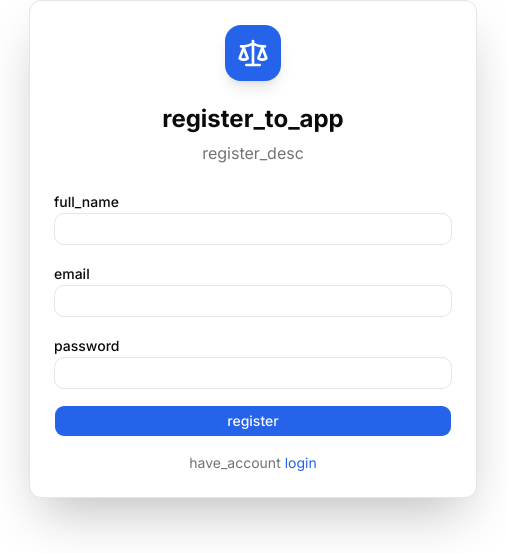
RegisterPage › shows email confirmation message without session
Expected: the heading "register_to_app" is shown, [162,104,344,133]
Step 1. Type "Test User" into the field labelled "full_name" → point(253, 229), box [54,213,452,245]
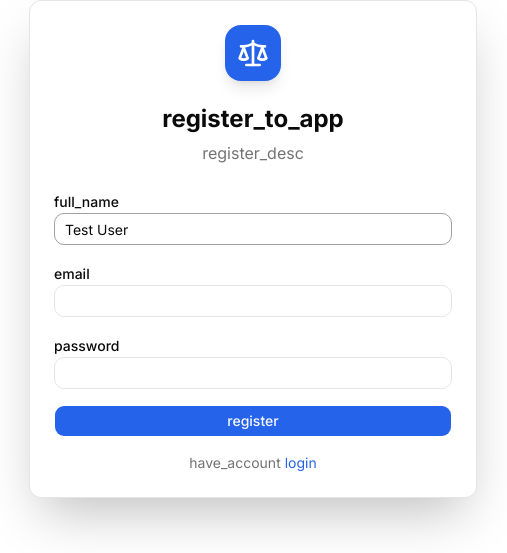
Step 2. Type "test@example.com" into the field labelled "email" → point(253, 301), box [54,285,452,317]
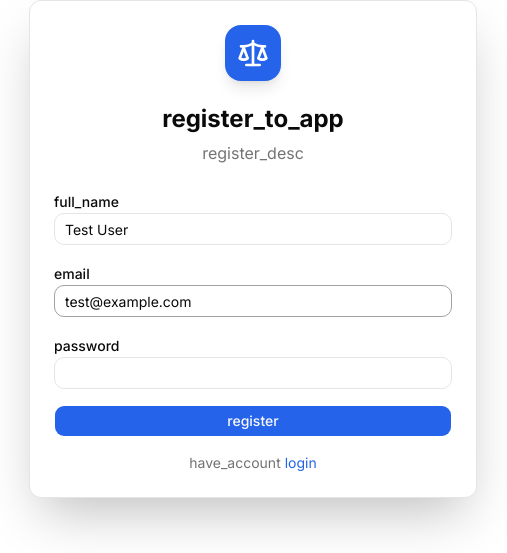
Step 3. Type "password123" into the password field labelled "password" → point(253, 373), box [54,357,452,389]
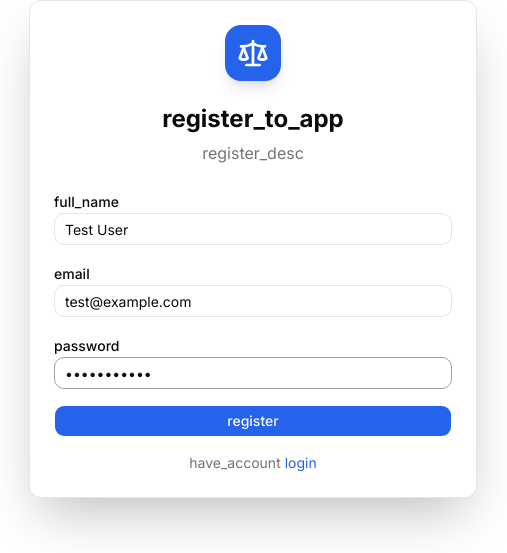
Step 4. Click the button "register" → point(253, 421), box [54,405,452,437]
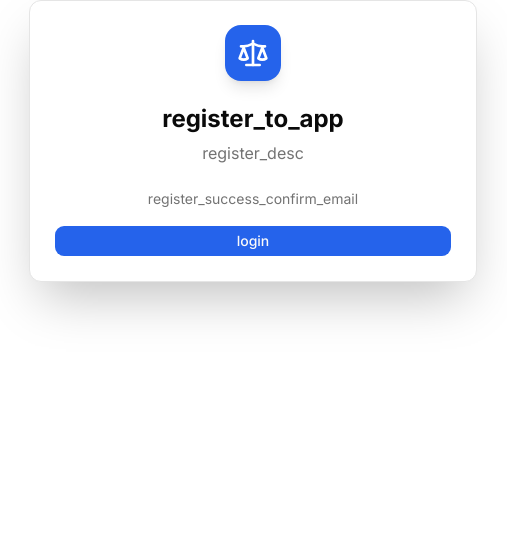
Now the text "register_success_confirm_email" is shown, box [148,190,358,207]
